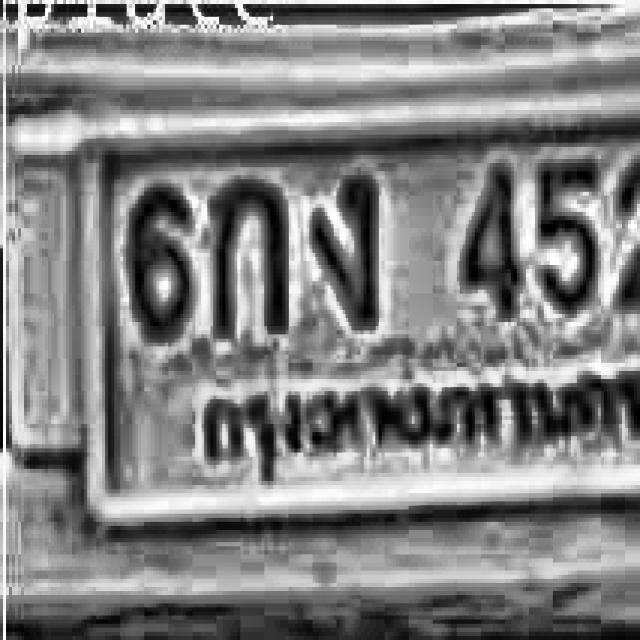license-plate: (51, 118, 640, 538)
